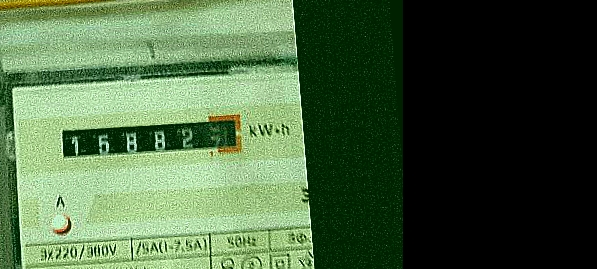1: (67, 133, 83, 156)
2: (178, 125, 196, 151)
5: (95, 130, 111, 156)
7: (209, 130, 222, 148)
8: (151, 128, 167, 153), (123, 130, 138, 154)
screen: (51, 105, 252, 176)
